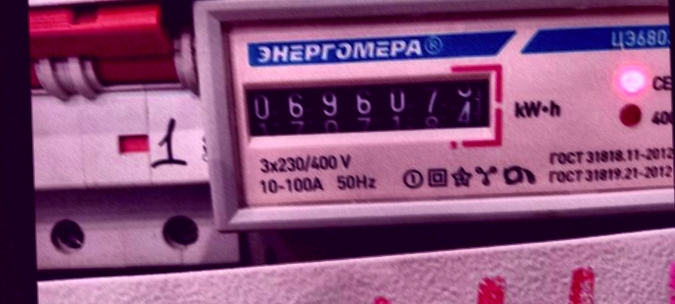0: (388, 83, 407, 114), (253, 92, 271, 120)
4: (455, 96, 473, 126)
6: (355, 85, 373, 115), (287, 90, 305, 118)
7: (422, 83, 442, 115)
9: (320, 89, 339, 117)
screen: (230, 60, 510, 153)
